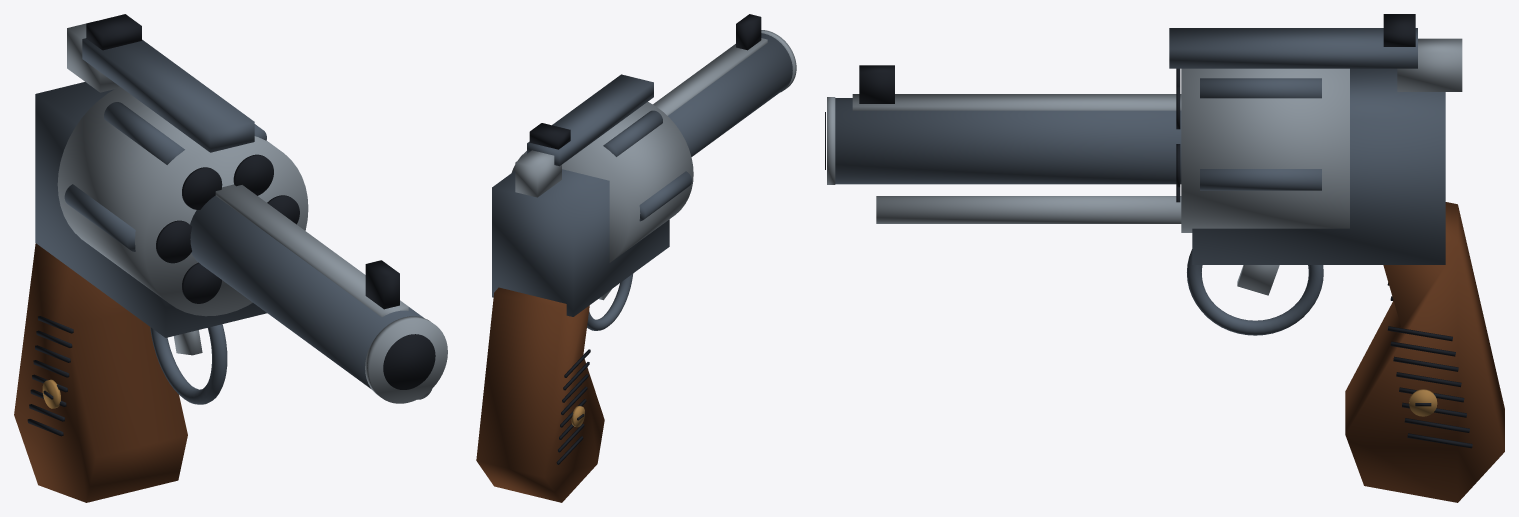
The model's file is revolver.glb.
The picture shows the model from 3 angles, left to right: view 1: azimuth 30°, elevation 25°; view 2: azimuth 150°, elevation 25°; view 3: azimuth 270°, elevation 25°; orthographic projection. The views are drawn at different scales.
Parts seen in each view (by area): view 1: Crosse sculptée, Barillet, Canon externe, Carcasse, Pont supérieur, Bande du canon, Couronne du canon, Torus, Intérieur sombre, Rainure barillet.002, Rainure barillet.003, Visée arrière (+8 smaller); view 2: Crosse sculptée, Carcasse, Barillet, Canon externe, Pont supérieur, Bande du canon, Chien, Rainure barillet.002, Rainure barillet.003, Torus, Visée arrière, Guidon; view 3: Crosse sculptée, Canon externe, Carcasse, Barillet, Pont supérieur, Tige sous canon, Bande du canon, Torus, Chien, Rainure barillet, Rainure barillet.001, Guidon (+3 smaller).
Part boxes in pixels (x1,y1,x2,y2): Crosse sculptée: (14, 243, 187, 502); Barillet: (57, 86, 308, 316); Canon externe: (190, 196, 423, 389); Carcasse: (35, 82, 266, 337); Pont supérieur: (82, 38, 254, 152); Bande du canon: (215, 184, 408, 317); Couronne du canon: (365, 316, 447, 403); Torus: (150, 324, 227, 404); Intérieur sombre: (383, 334, 435, 389); Rainure barillet.002: (104, 102, 184, 164); Rainure barillet.003: (64, 184, 135, 251); Visée arrière: (86, 14, 141, 50); Crosse sculptée: (476, 287, 604, 502); Carcasse: (492, 169, 669, 316); Barillet: (511, 102, 693, 262); Canon externe: (668, 33, 792, 156); Pont supérieur: (527, 74, 653, 166); Bande du canon: (653, 38, 767, 115); Chien: (515, 150, 561, 197); Rainure barillet.002: (603, 110, 662, 156); Rainure barillet.003: (639, 171, 691, 221); Torus: (587, 273, 633, 330); Visée arrière: (529, 123, 570, 149); Guidon: (736, 14, 761, 50); Crosse sculptée: (1345, 202, 1504, 502); Canon externe: (835, 98, 1181, 184); Carcasse: (1192, 68, 1445, 264); Barillet: (1181, 68, 1349, 232); Pont supérieur: (1169, 28, 1417, 68); Tige sous canon: (876, 196, 1181, 223); Bande du canon: (852, 94, 1181, 110); Torus: (1187, 249, 1323, 335); Chien: (1397, 38, 1462, 91); Rainure barillet: (1200, 169, 1321, 190); Rainure barillet.001: (1200, 78, 1321, 98); Guidon: (859, 65, 894, 103).
Size of the model in its own units: 0.214 by 0.5385 by 0.7245.
